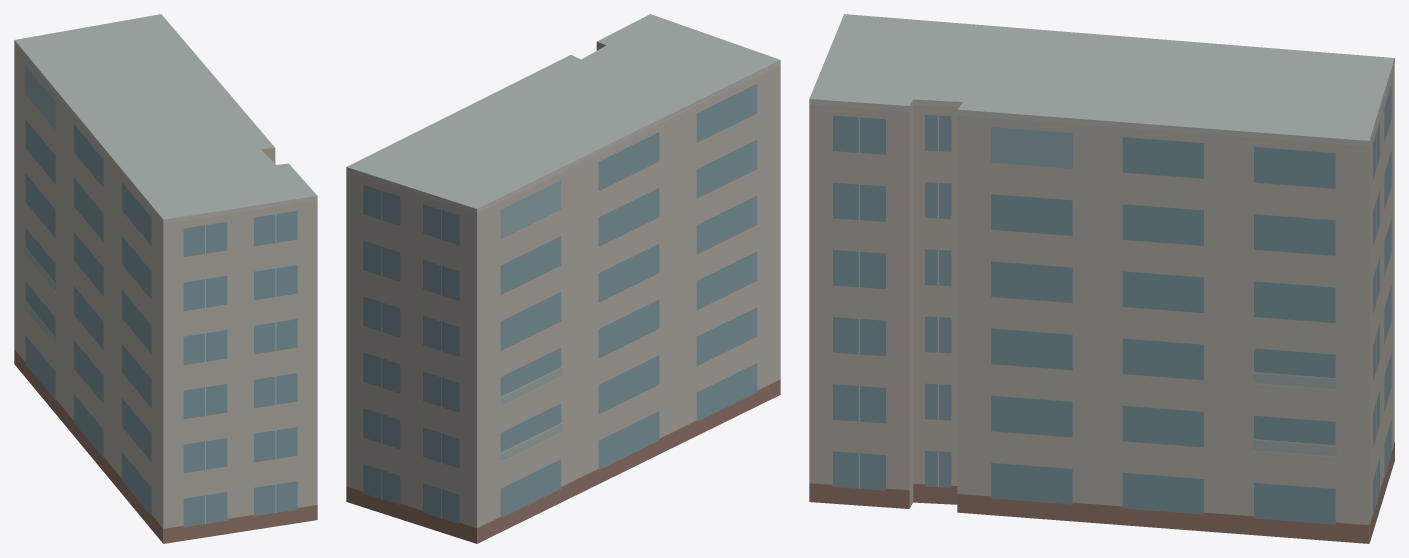
The model's file is survey-upis-32537445.glb.
3 renders of one model, left to right at view 1: azimuth 30°, elevation 25°; view 2: azimuth 150°, elevation 25°; view 3: azimuth 270°, elevation 25°, orthographic. The views are drawn at different scales.
Parts seen in each view (by area): view 1: survey-upis-32537445.tmp; view 2: survey-upis-32537445.tmp; view 3: survey-upis-32537445.tmp.
Boxes of the visible parts, x1,y1,x2,y2 form: survey-upis-32537445.tmp: (14,14,317,543); survey-upis-32537445.tmp: (346,14,780,543); survey-upis-32537445.tmp: (809,14,1394,543).
Bounding box in the file's own units: 11.83 × 17.5 × 23.05.
